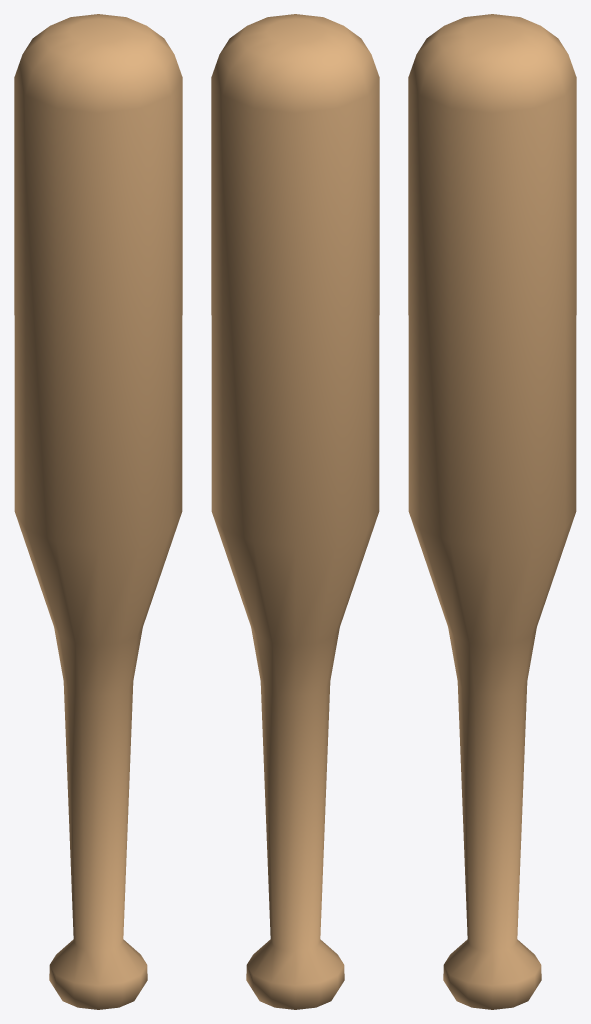
File: baseballbat.gltf.glb
3 renders of one model, left to right at view 1: azimuth 30°, elevation 25°; view 2: azimuth 150°, elevation 25°; view 3: azimuth 270°, elevation 25°, orthographic.
Parts seen in each view (by area): view 1: baseballbat; view 2: baseballbat; view 3: baseballbat.
Part boxes in pixels (<box>): baseballbat: <box>14,14,182,1009</box>; baseballbat: <box>211,14,379,1009</box>; baseballbat: <box>408,14,576,1009</box>.
Bounding box in the file's own units: 0.1915 × 1.21 × 0.1915.
